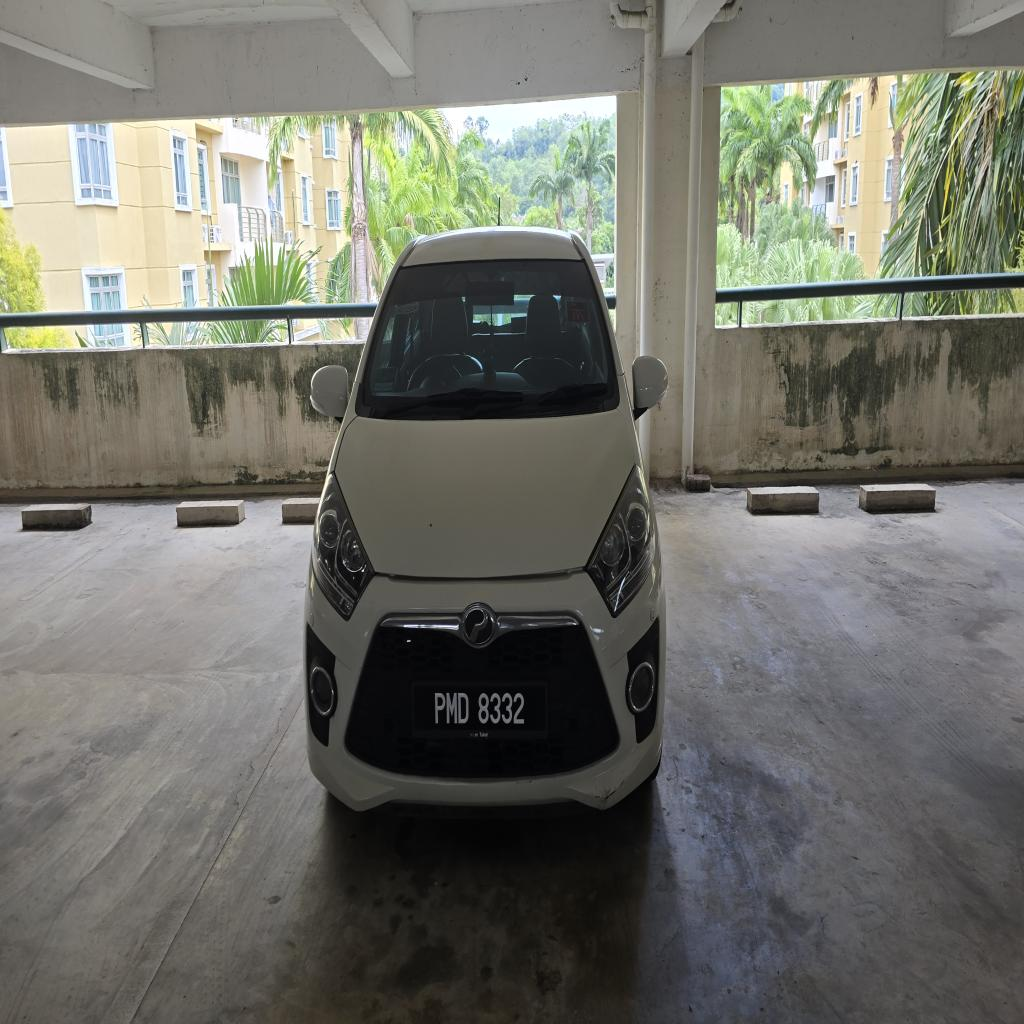car: (306, 229, 666, 808)
car plate: (413, 683, 546, 738)
